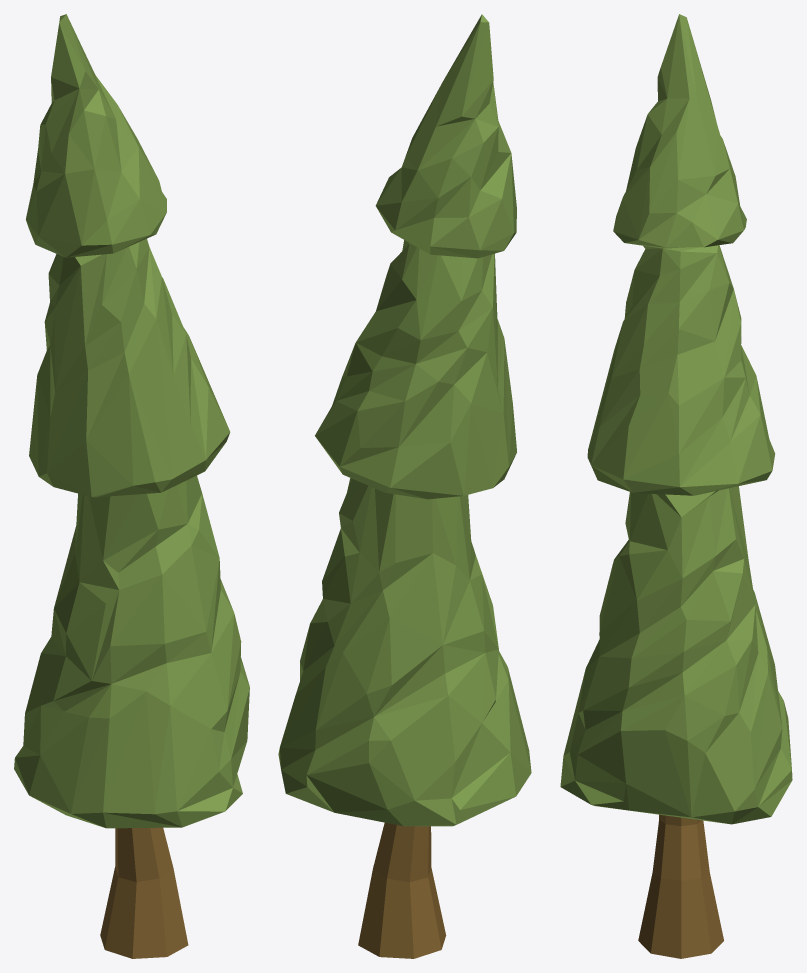
Rendered from furry lean.fbx.
The picture shows the model from 3 angles, left to right: view 1: azimuth 30°, elevation 25°; view 2: azimuth 150°, elevation 25°; view 3: azimuth 270°, elevation 25°; orthographic projection. The views are drawn at different scales.
Visible parts, largest first — view 1: pCylinder1, pCylinder2; view 2: pCylinder1, pCylinder2; view 3: pCylinder1, pCylinder2.
Part boxes in pixels (left/top/right/bottom): pCylinder1: left=14, top=14, right=249, bottom=828; pCylinder2: left=100, top=827, right=188, bottom=958; pCylinder1: left=278, top=14, right=531, bottom=826; pCylinder2: left=358, top=822, right=446, bottom=958; pCylinder1: left=560, top=14, right=792, bottom=824; pCylinder2: left=638, top=814, right=723, bottom=958.
Size of the model in its own units: 6.51 by 28 by 6.61.
